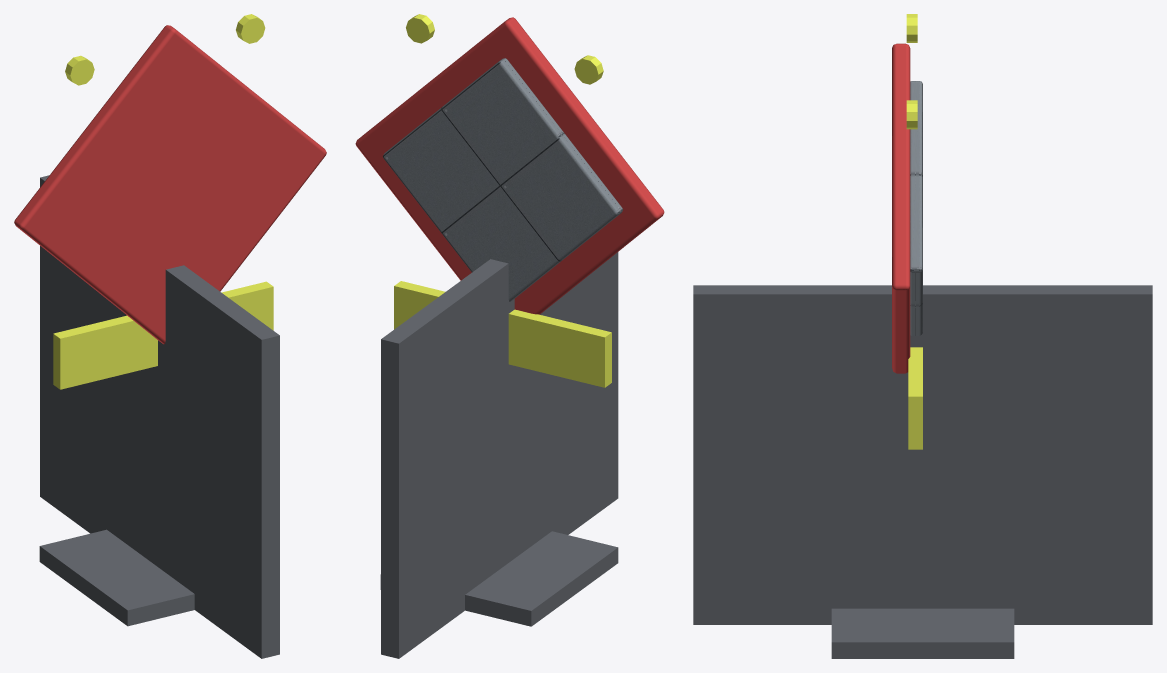
Rendered from fire-and-emergency-services-incident-warning-sign-f7c4db1d__29933.glb.
3 renders of one model, left to right at view 1: azimuth 30°, elevation 25°; view 2: azimuth 150°, elevation 25°; view 3: azimuth 270°, elevation 25°, orthographic. The views are drawn at different scales.
Visible parts, largest first — view 1: incident-warning-sign; view 2: incident-warning-sign; view 3: incident-warning-sign.
Boxes of the visible parts, x1,y1,x2,y2 form: incident-warning-sign: [14, 14, 326, 658]; incident-warning-sign: [355, 14, 664, 658]; incident-warning-sign: [693, 14, 1152, 658].
Size of the model in its own units: 1.01 by 1.74 by 1.26.
Materials: 4 (1 with a texture image).
